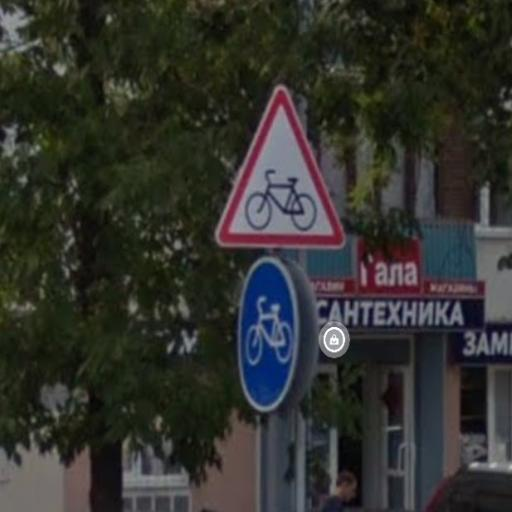traffic_sign: (213, 84, 348, 252), (237, 259, 301, 414)
